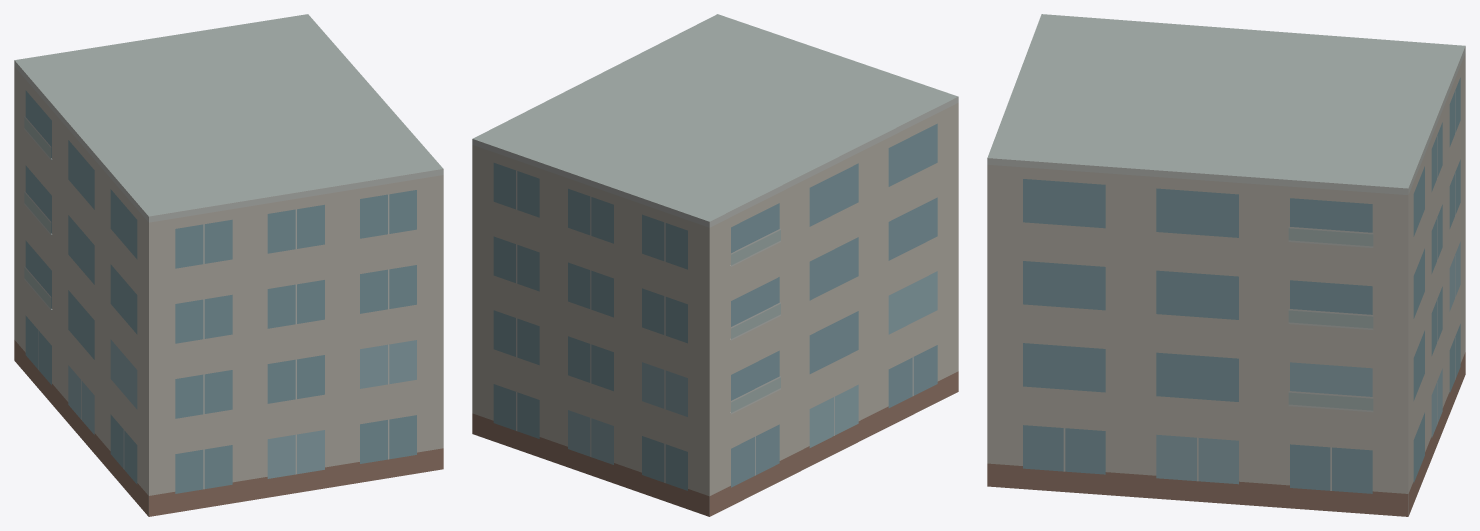
Rendered from survey-upis-32690515.glb.
The picture shows the model from 3 angles, left to right: view 1: azimuth 30°, elevation 25°; view 2: azimuth 150°, elevation 25°; view 3: azimuth 270°, elevation 25°; orthographic projection. The views are drawn at different scales.
Visible parts, largest first — view 1: survey-upis-32690515.tmp; view 2: survey-upis-32690515.tmp; view 3: survey-upis-32690515.tmp.
Part boxes in pixels (x1,y1,x2,y2): survey-upis-32690515.tmp: (14,14,443,516); survey-upis-32690515.tmp: (472,14,958,516); survey-upis-32690515.tmp: (987,14,1465,516).
Size of the model in its own units: 13.69 by 12 by 15.85.
